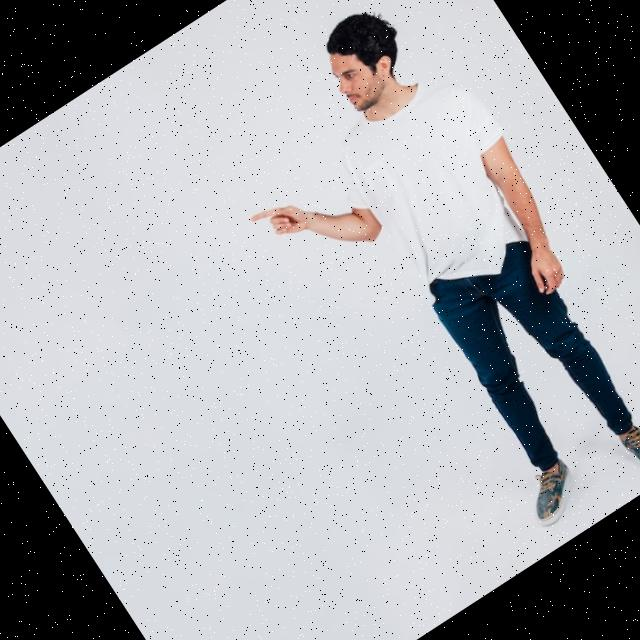Person: (187, 0, 640, 577)
